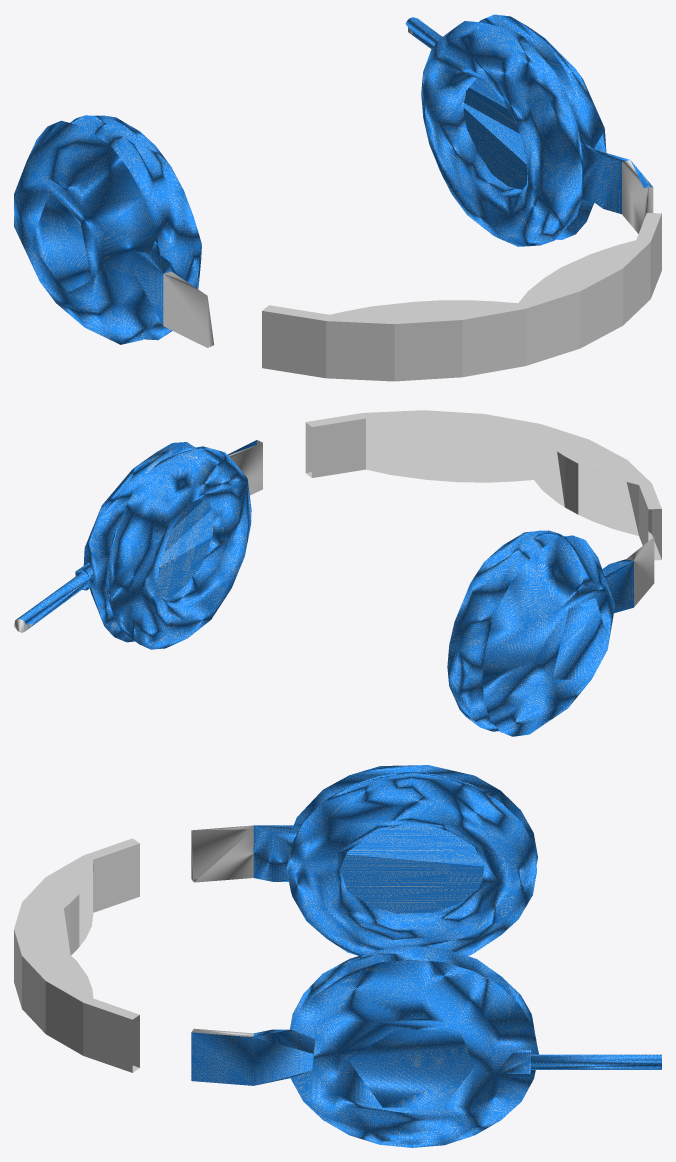
Rendered from model_align.obj.
3 views of the same model, one above another, from view 1: azimuth 30°, elevation 25°; view 2: azimuth 150°, elevation 25°; view 3: azimuth 270°, elevation 25° (orthographic). The views are drawn at different scales.
Bounding box in the file's own units: 0.1286 × 0.0492 × 0.153.
